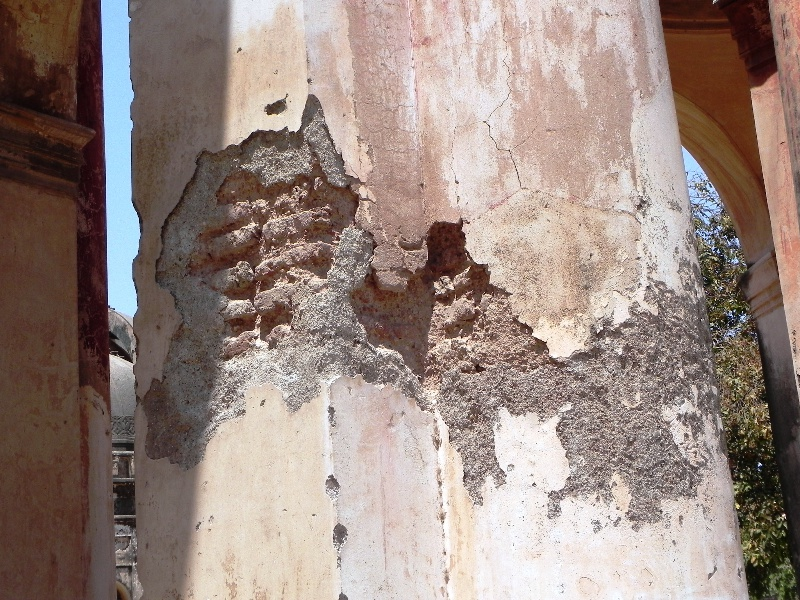Exposed Bricks: (206, 174, 327, 340)
Spalling: (332, 156, 718, 538)
